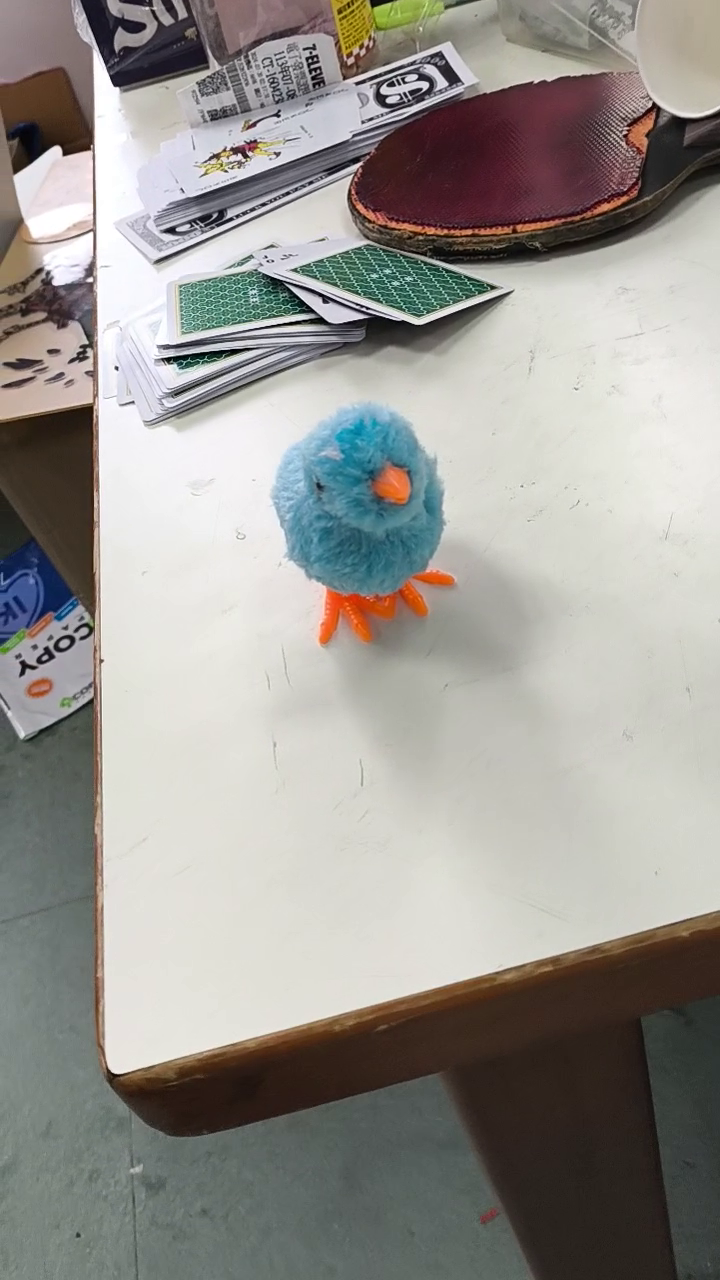blue chicken: (270, 396, 466, 659)
